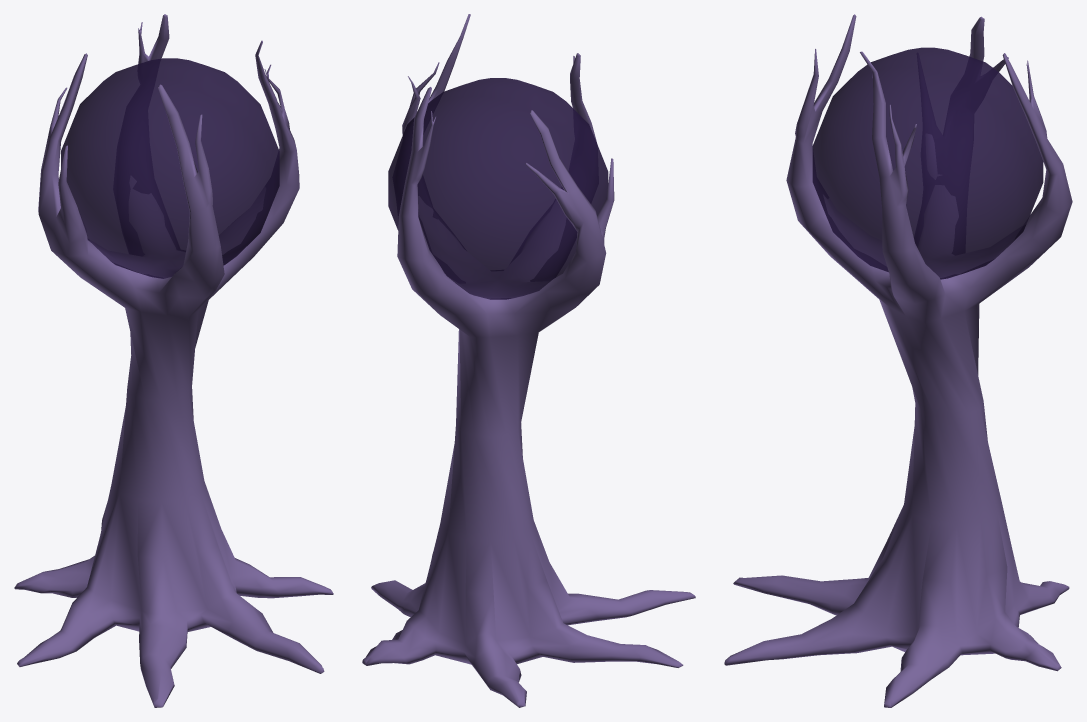
Rendered from Tree_01__merged_UV.fbx.
3 renders of one model, left to right at view 1: azimuth 30°, elevation 25°; view 2: azimuth 150°, elevation 25°; view 3: azimuth 270°, elevation 25°, orthographic. The views are drawn at different scales.
Parts seen in each view (by area): view 1: Tree_01__merged_UV; view 2: Tree_01__merged_UV; view 3: Tree_01__merged_UV.
Part boxes in pixels (x1,y1,x2,y2): Tree_01__merged_UV: (14,14,333,707); Tree_01__merged_UV: (362,14,695,707); Tree_01__merged_UV: (724,14,1072,707).
Bounding box in the file's own units: 831 × 762 × 1487.
